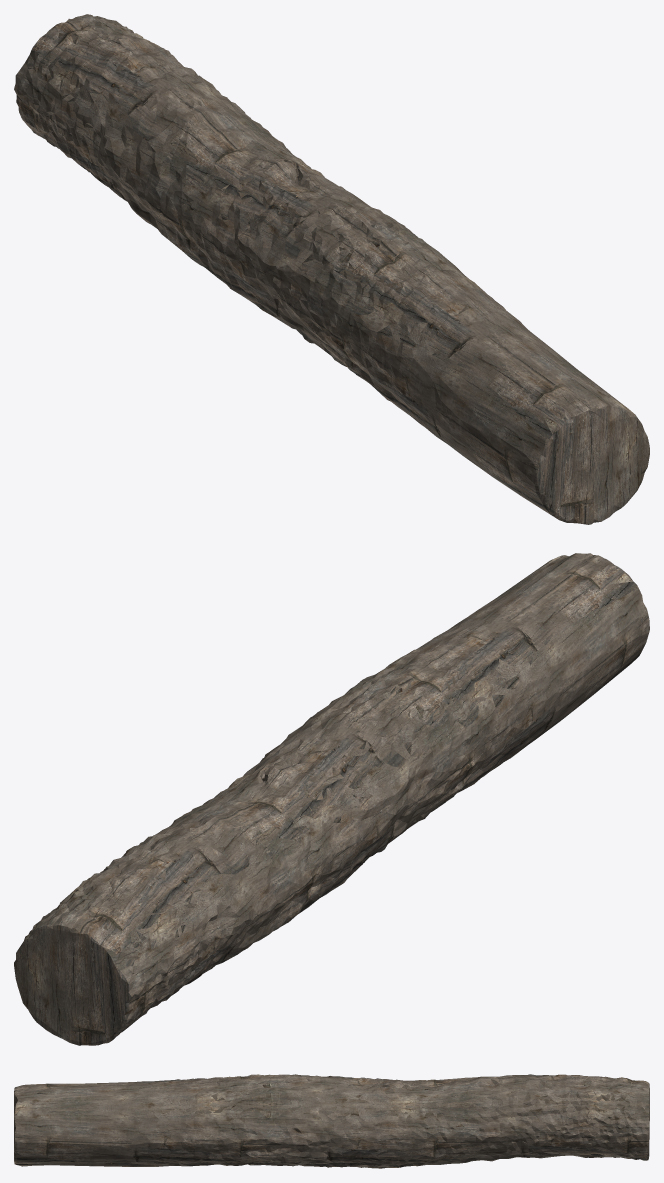
File: Wood.fbx
The picture shows the model from 3 angles, top to bottom: view 1: azimuth 30°, elevation 25°; view 2: azimuth 150°, elevation 25°; view 3: azimuth 270°, elevation 25°; orthographic projection. The views are drawn at different scales.
Parts seen in each view (by area): view 1: Log_A.001; view 2: Log_A.001; view 3: Log_A.001.
Part boxes in pixels (left/top/right/bottom): Log_A.001: left=14, top=14, right=649, bottom=524; Log_A.001: left=14, top=553, right=649, bottom=1045; Log_A.001: left=14, top=1074, right=649, bottom=1168.
Bounding box in the file's own units: 578 × 557 × 3755.
